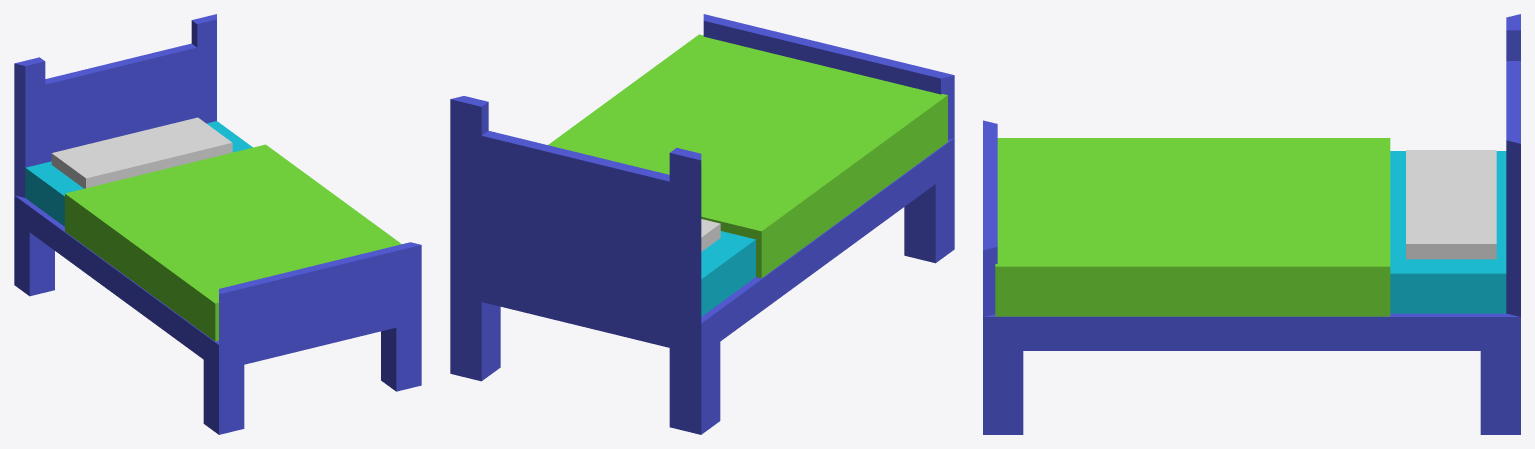
The model's file is Bed.fbx.
The picture shows the model from 3 angles, left to right: view 1: azimuth 30°, elevation 25°; view 2: azimuth 150°, elevation 25°; view 3: azimuth 270°, elevation 25°; orthographic projection. The views are drawn at different scales.
Visible parts, largest first — view 1: Bed, Shhets, Pillow; view 2: Bed, Shhets, Pillow; view 3: Shhets, Bed, Pillow.
Boxes of the visible parts, x1,y1,x2,y2 form: Bed: (14,14,421,434); Shhets: (65,144,401,341); Pillow: (51,117,232,188); Bed: (450,14,954,434); Shhets: (548,34,947,278); Pillow: (701,219,720,251); Shhets: (995,138,1390,316); Bed: (983,14,1520,434); Pillow: (1406,150,1496,259).
Size of the model in its own units: 160 by 167 by 280.
